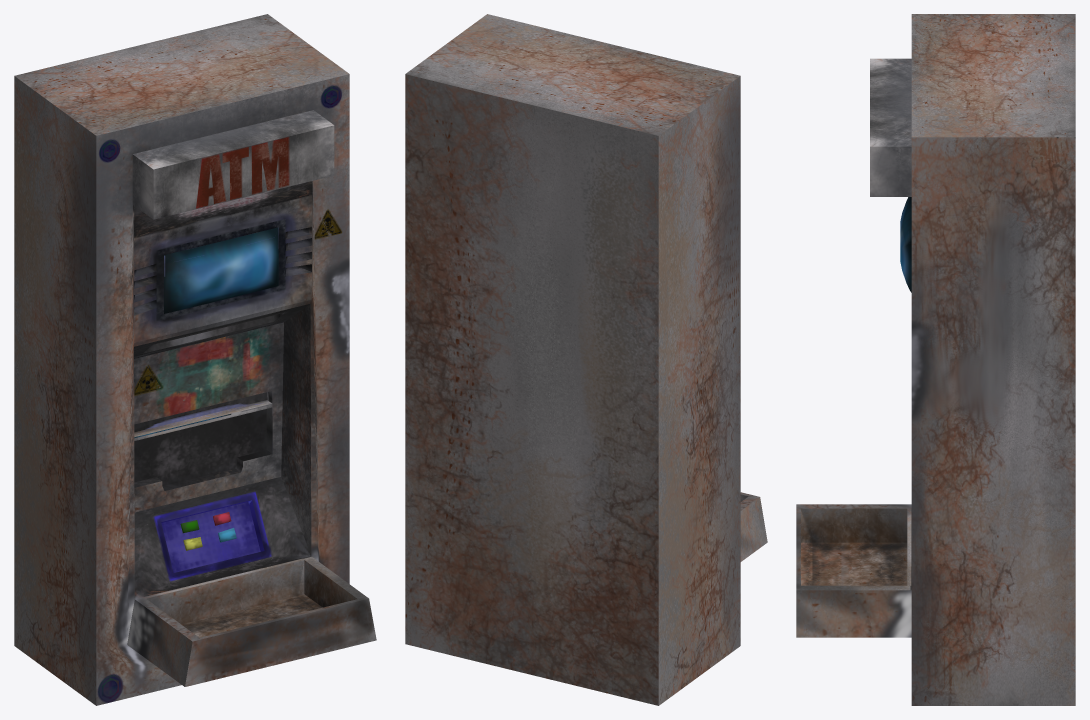
The model's file is ATM.fbx.
3 renders of one model, left to right at view 1: azimuth 30°, elevation 25°; view 2: azimuth 150°, elevation 25°; view 3: azimuth 270°, elevation 25°, orthographic.
Parts seen in each view (by area): view 1: Cube, Cube.001; view 2: Cube; view 3: Cube, Cube.001.
Boxes of the visible parts, x1=… form: Cube: x1=14, y1=14, x2=376, y2=705; Cube.001: x1=164, y1=227, x2=278, y2=313; Cube: x1=405, y1=14, x2=767, y2=705; Cube: x1=796, y1=14, x2=1075, y2=705; Cube.001: x1=900, y1=197, x2=911, y2=292.
Bounding box in the file's own units: 200 × 430 × 191.
Materials: 1 (1 with a texture image).
